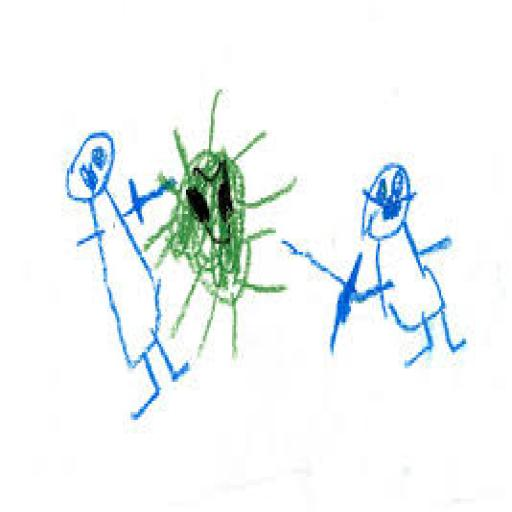person: (282, 160, 468, 401), (61, 98, 182, 458)
